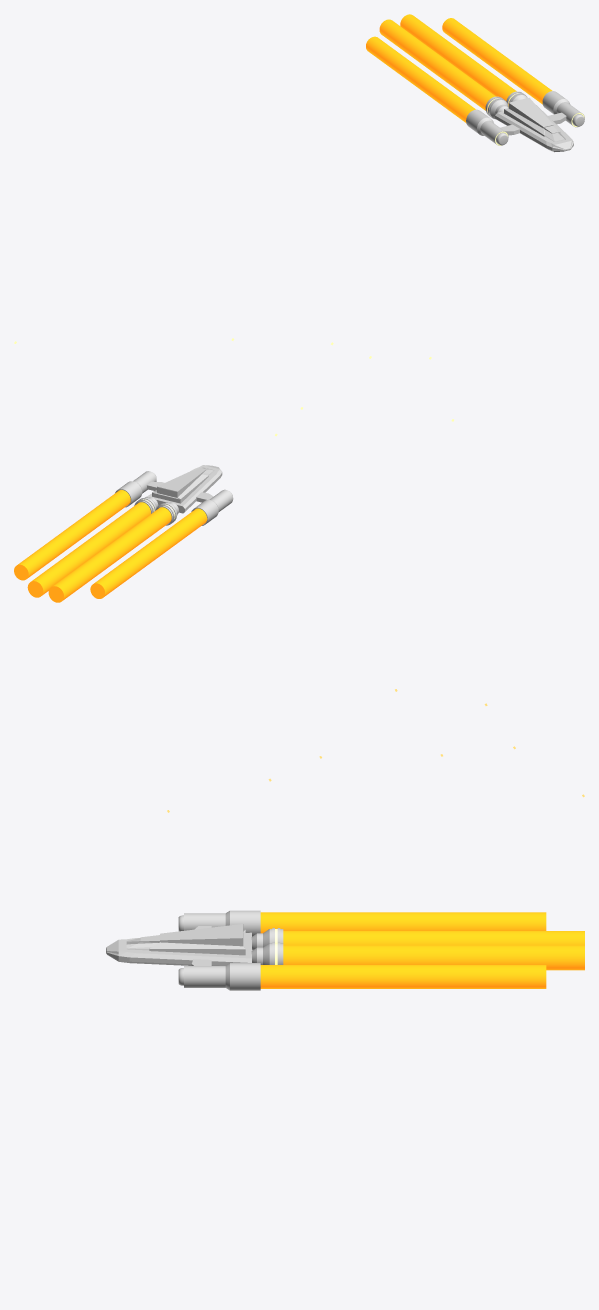
File: SpaceshipScene-transformed.glb
3 views of the same model, one above another, from view 1: azimuth 30°, elevation 25°; view 2: azimuth 150°, elevation 25°; view 3: azimuth 270°, elevation 25° (orthographic). The views are drawn at different scales.
Visible parts, largest first — view 1: SideJetEngines.004, SideJetEngines.003; view 2: SideJetEngines.004, SideJetEngines.003; view 3: SideJetEngines.004, SideJetEngines.003.
Part boxes in pixels (x1,y1,x2,y2): SideJetEngines.004: (366, 14, 552, 122); SideJetEngines.003: (466, 91, 584, 152); SideJetEngines.004: (14, 490, 207, 602); SideJetEngines.003: (115, 465, 233, 525); SideJetEngines.004: (260, 912, 584, 988); SideJetEngines.003: (106, 910, 283, 990).
Bounding box in the file's own units: 39.81 × 21.02 × 27.51.
